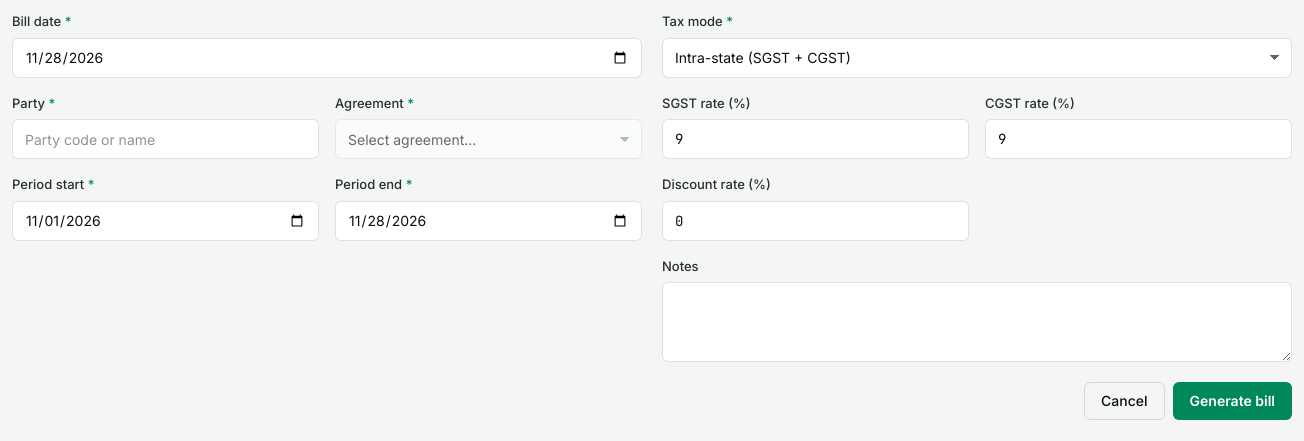
Test: BillForm › shows required messages and does not submit
This screenshot has width=1304, height=441.
Click the button "Generate bill".
click(1232, 401)  # box top-left (1173, 382), bottom-right (1292, 420)
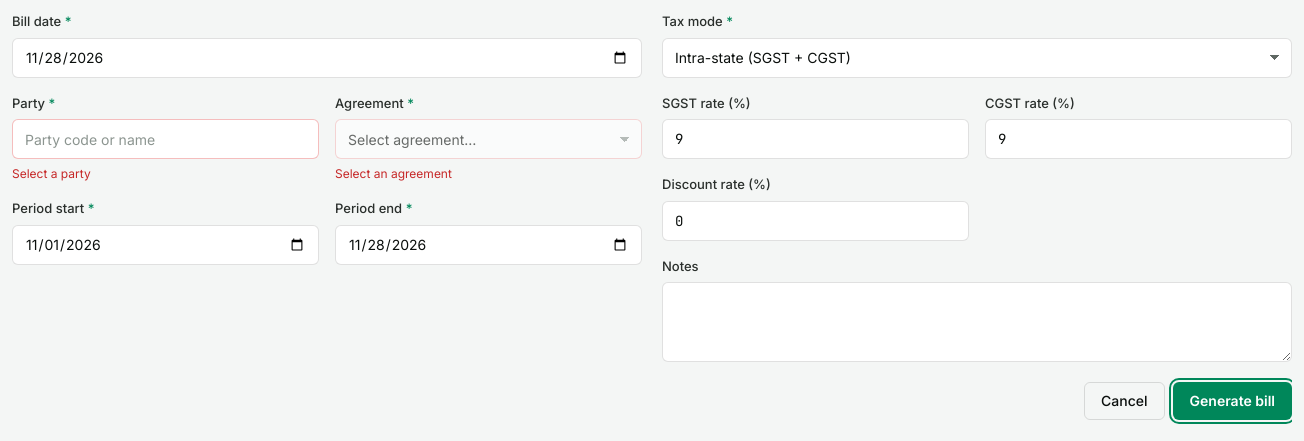
Expected: the text "Select a party" is shown, top-left (12, 166), bottom-right (91, 181)
Expected: the text "Select an agreement" is shown, top-left (335, 166), bottom-right (452, 181)
